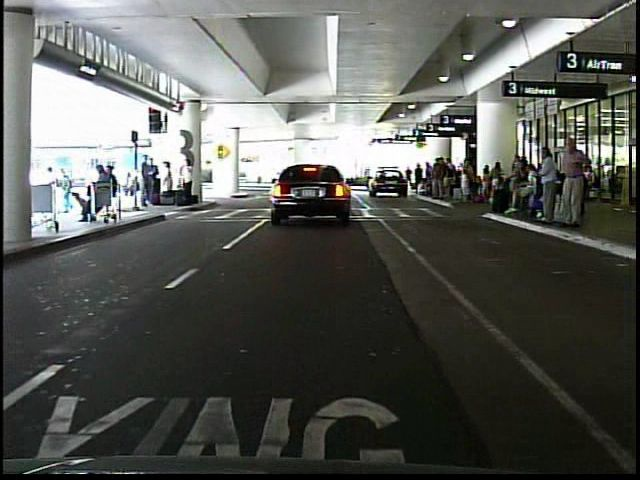person: (554, 134, 594, 234), (536, 145, 560, 227), (48, 162, 72, 219), (147, 156, 161, 204), (163, 160, 178, 204), (181, 158, 195, 204), (415, 160, 427, 197), (405, 160, 415, 194)
